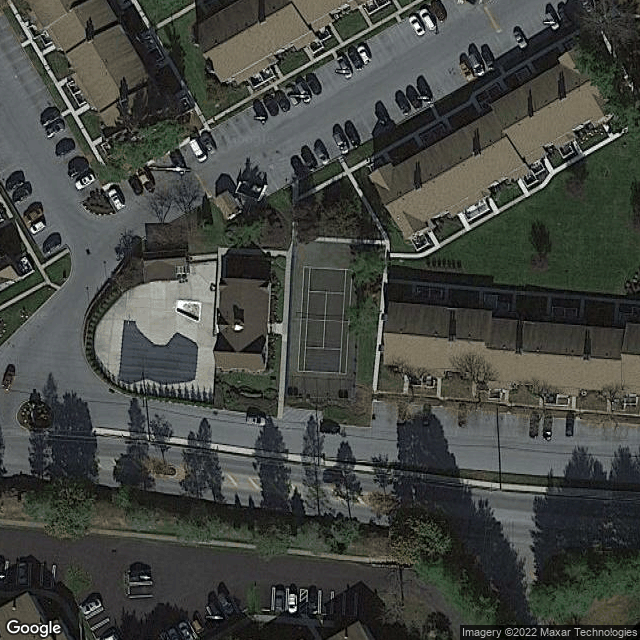Court: (299, 264, 355, 375)
